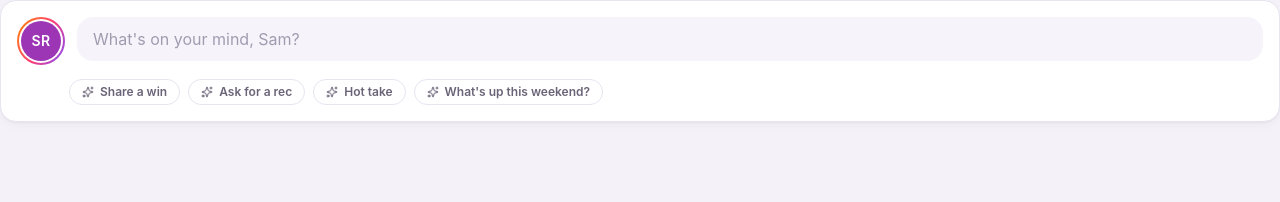
Test: Composer › starts a post from a prompt chip
Click the button "Hot take".
click(359, 92)  # box [313, 79, 406, 105]
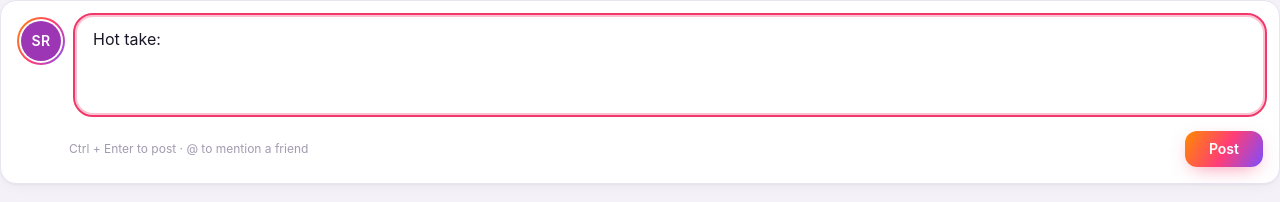
Check: the text box named "Write a post" holds "Hot take: ", box [77, 17, 1263, 113]
